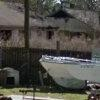Boat: (31, 51, 95, 90)
